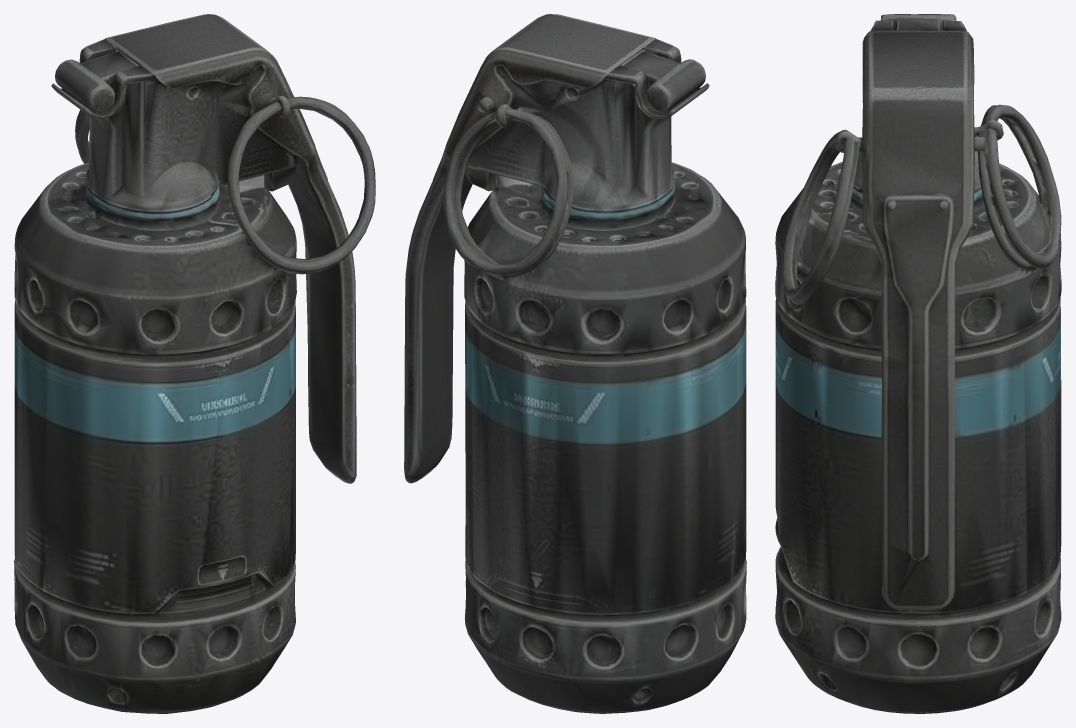
File: bomba_sis.glb
The picture shows the model from 3 angles, left to right: view 1: azimuth 30°, elevation 25°; view 2: azimuth 150°, elevation 25°; view 3: azimuth 270°, elevation 25°; orthographic projection.
Visible parts, largest first — view 1: govde; view 2: govde; view 3: govde.
Boxes of the visible parts, x1,y1,x2,y2 form: govde: [14, 14, 375, 713]; govde: [404, 14, 746, 713]; govde: [775, 14, 1061, 713].
Bounding box in the file's own units: 0.073 × 0.1399 × 0.058.
Materials: 1 (1 with a texture image).
